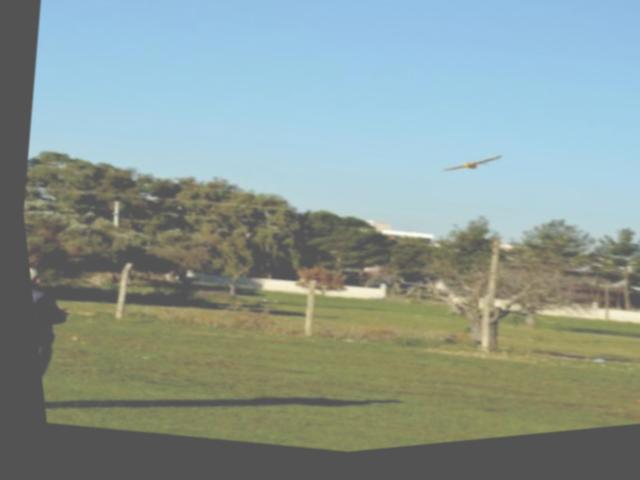iha: (431, 144, 505, 198)
